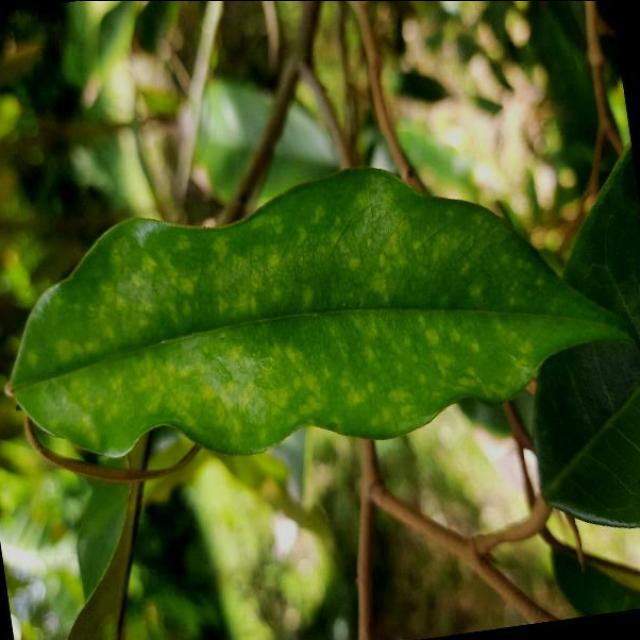Leaf Spot: (0, 124, 640, 502)
